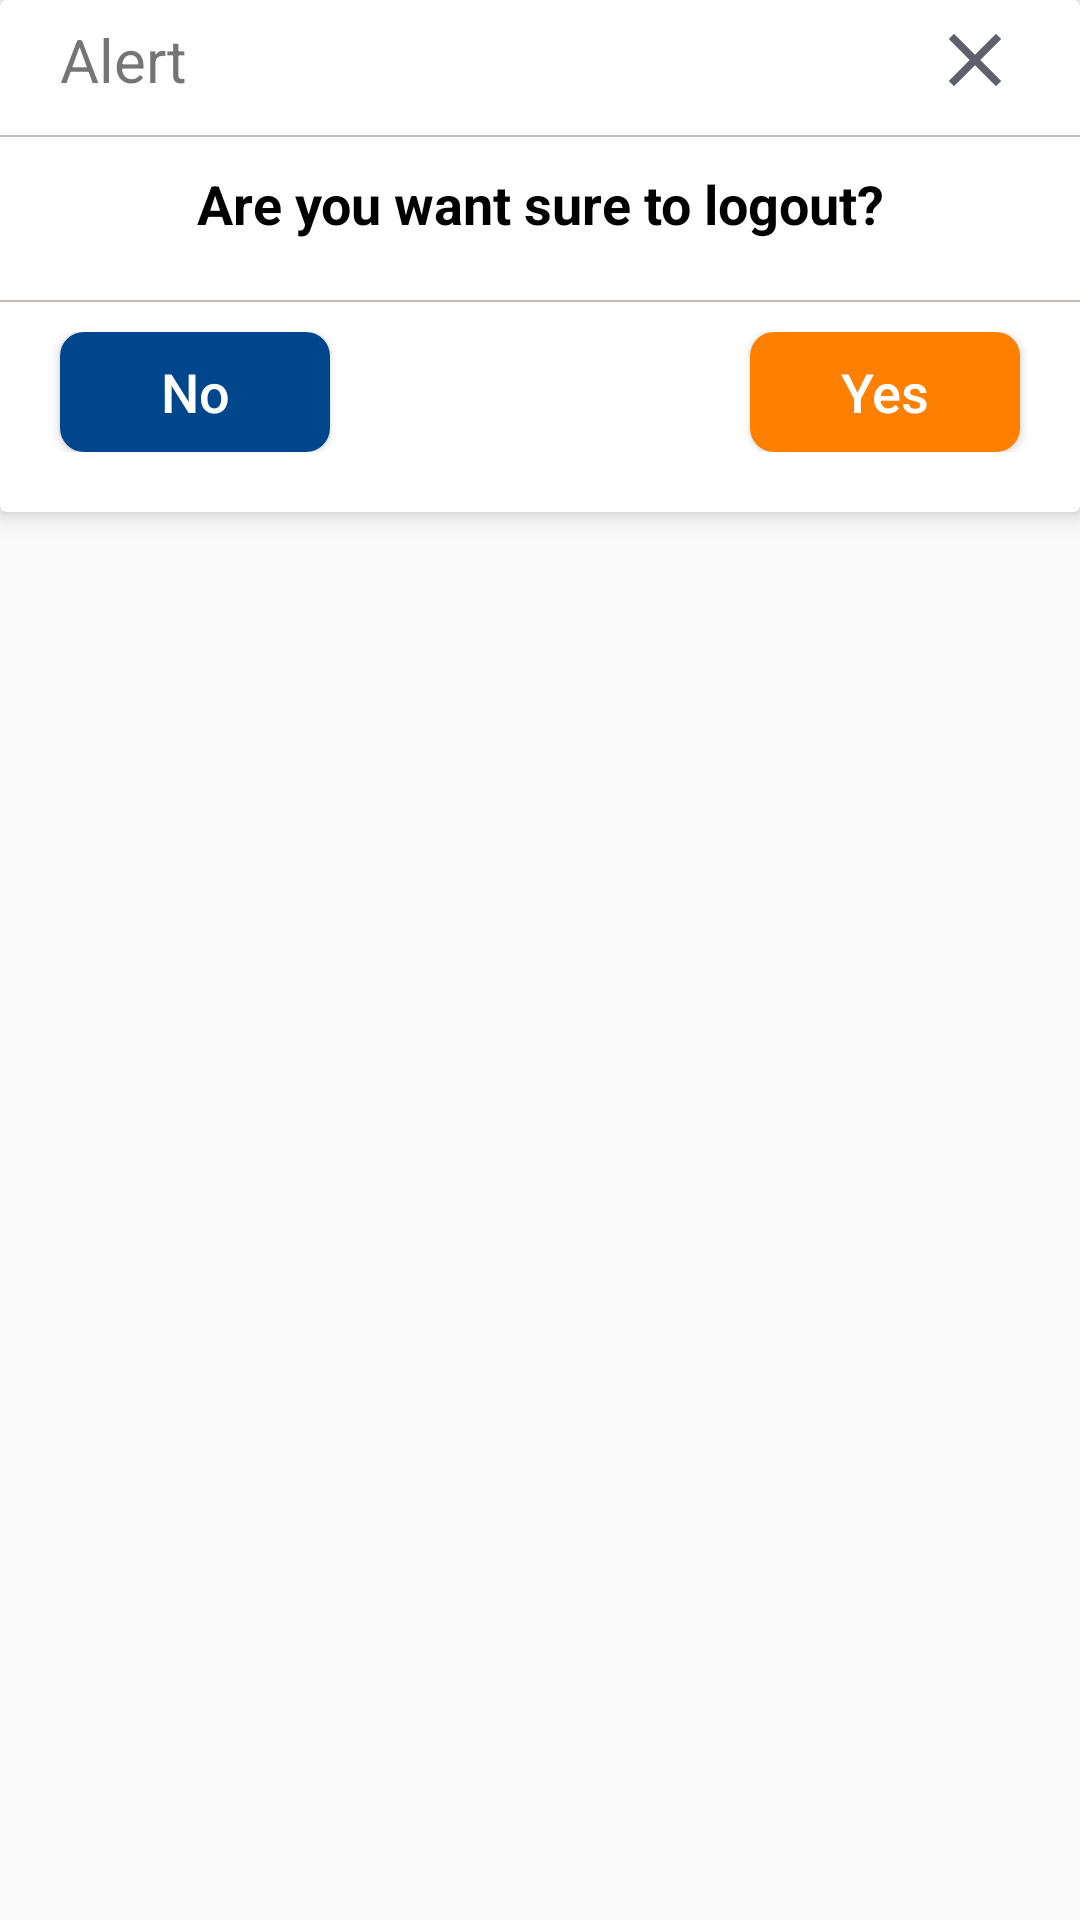

Point at icon controls on the screen. Image size 1080*1920, points as point (x, y).
close: point (975, 60)
